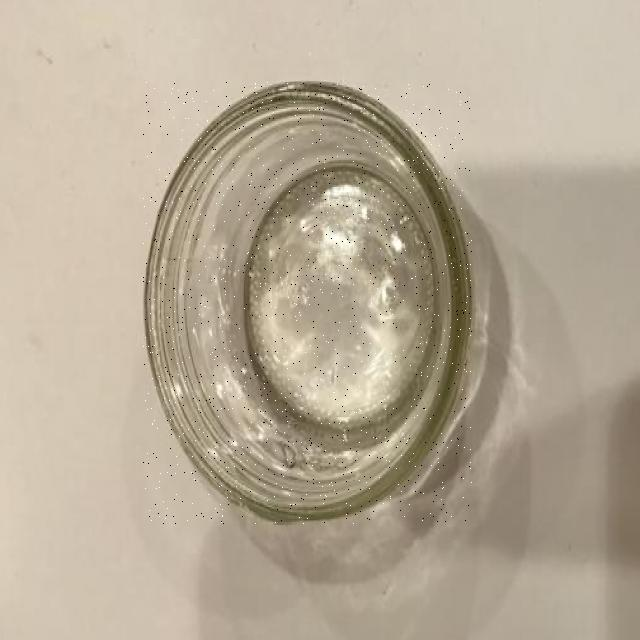glass: (144, 83, 472, 524)
